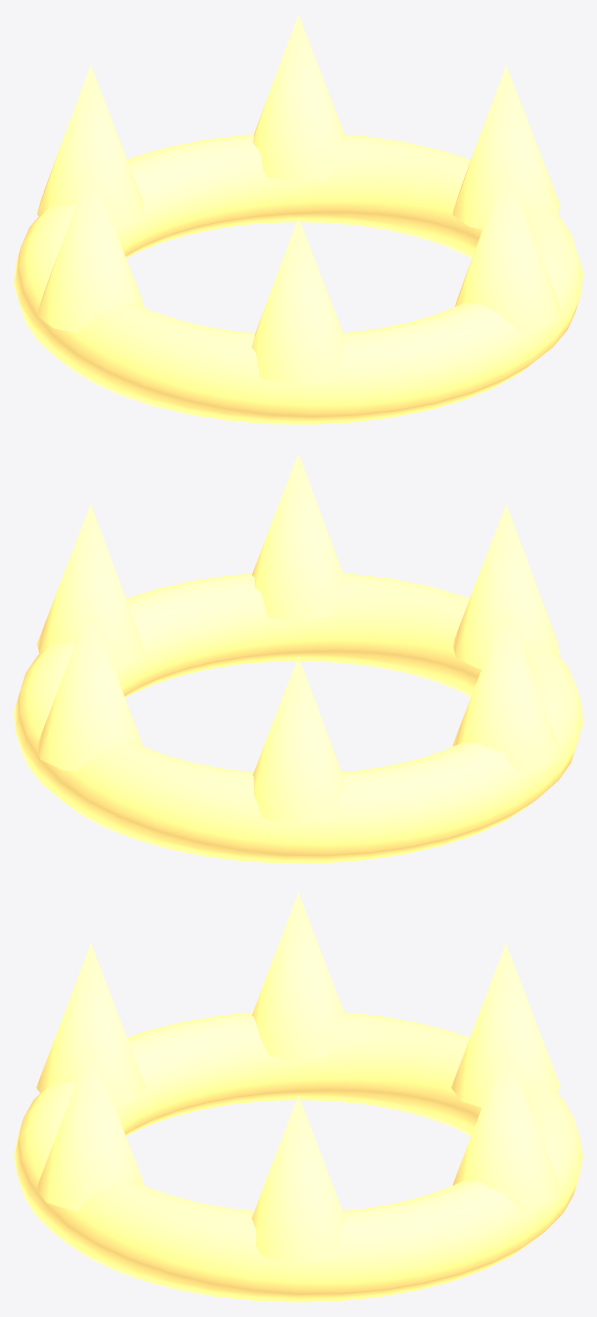
Rendered from crown.glb.
3 renders of one model, top to bottom at view 1: azimuth 30°, elevation 25°; view 2: azimuth 150°, elevation 25°; view 3: azimuth 270°, elevation 25°, orthographic.
Parts seen in each view (by area): view 1: Torus, Cone.004, Cone.001, Cone.005, Cone.003, Cone, Cone.002; view 2: Torus, Cone.002, Cone.005, Cone.001, Cone.003, Cone, Cone.004; view 3: Torus, Cone, Cone.003, Cone.001, Cone.005, Cone.002, Cone.004.
Part boxes in pixels (<box>): Torus: <box>14,134,582,424</box>; Cone.004: <box>252,217,344,384</box>; Cone.001: <box>252,14,344,182</box>; Cone.005: <box>455,167,559,332</box>; Cone.003: <box>37,167,144,332</box>; Cone: <box>452,65,559,229</box>; Cone.002: <box>37,65,143,230</box>; Torus: <box>14,573,582,863</box>; Cone.002: <box>252,656,344,823</box>; Cone.005: <box>252,453,344,621</box>; Cone.001: <box>37,606,141,771</box>; Cone.003: <box>452,606,559,771</box>; Cone: <box>37,504,144,668</box>; Cone.004: <box>453,504,559,669</box>; Torus: <box>14,1012,582,1302</box>; Cone: <box>251,1095,345,1261</box>; Cone.003: <box>251,892,345,1059</box>; Cone.001: <box>452,1045,560,1210</box>; Cone.005: <box>36,1045,144,1210</box>; Cone.002: <box>451,943,560,1107</box>; Cone.004: <box>36,943,145,1107</box>.
Size of the model in its own units: 0.5846 by 0.225 by 0.57.
